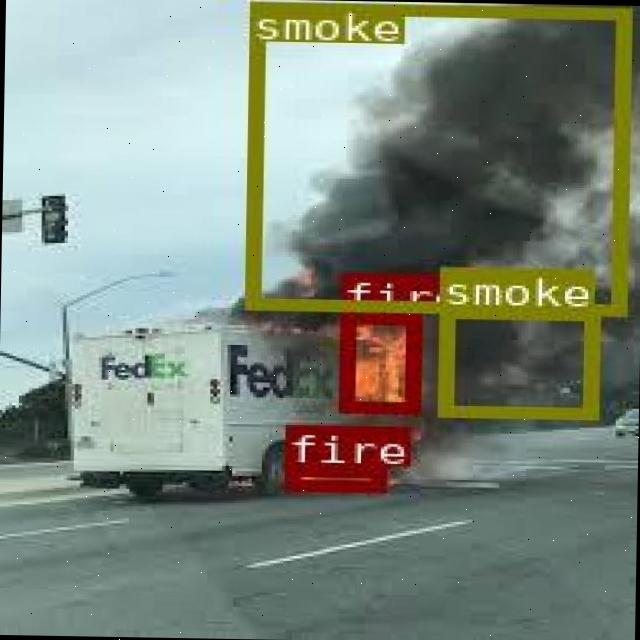fire: (336, 310, 419, 410), (284, 462, 384, 490)
smoke: (242, 1, 628, 312), (436, 305, 596, 417)
